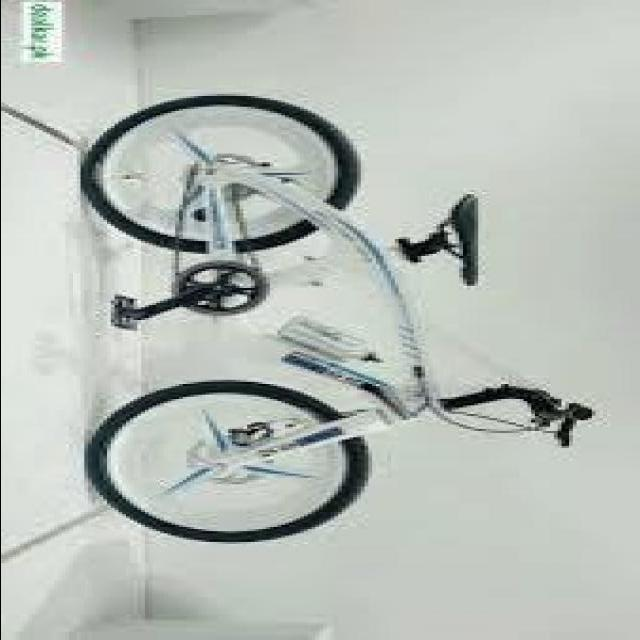bicycle: (88, 97, 565, 549)
